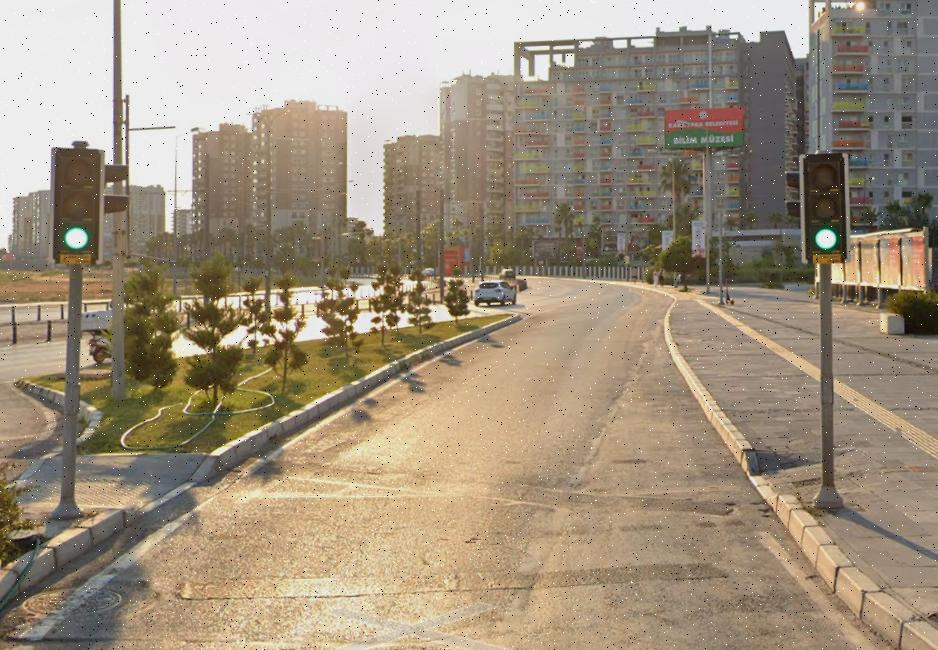greenlight: (798, 150, 852, 267), (52, 142, 103, 263)
